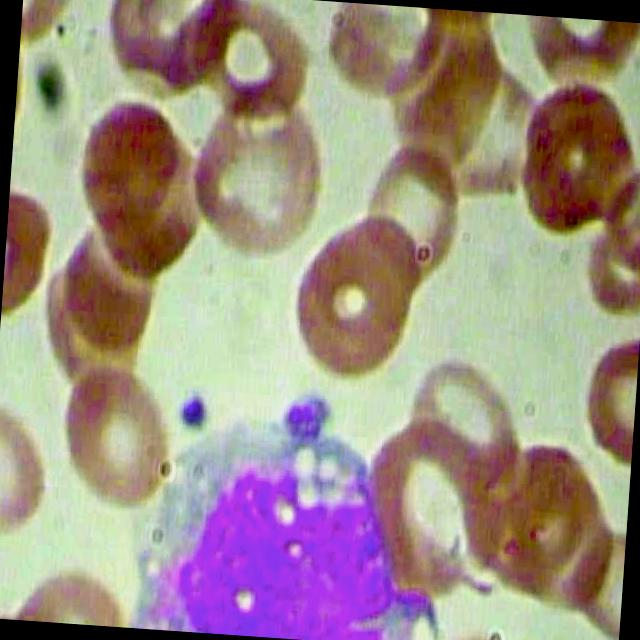RBC: (180, 76, 340, 262), (284, 212, 418, 388), (396, 328, 532, 499), (46, 349, 180, 508), (63, 87, 188, 255), (0, 385, 61, 546), (578, 312, 640, 467), (0, 170, 56, 333), (13, 558, 134, 628)
WBC: (122, 379, 455, 640)
